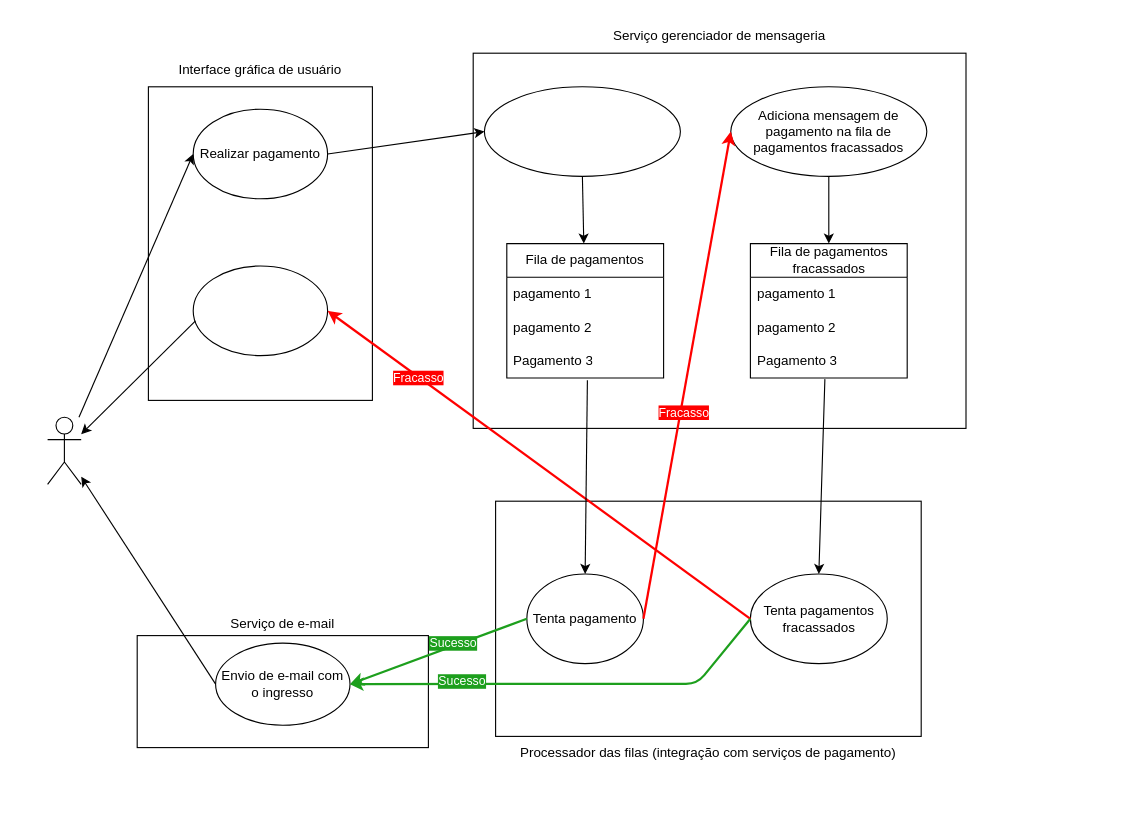
Some shapes in this 1131 by 822 pixel diagram are drawn without their labels. Here are the shapes that lost their labels. From the top down, the centre of each, then its label:
the point at 581,131: Adiciona mensagem de pagamento na fila de pagamentos
the point at 260,310: Notificação de falha no pagamento
the point at 63,450: Usuário logado
